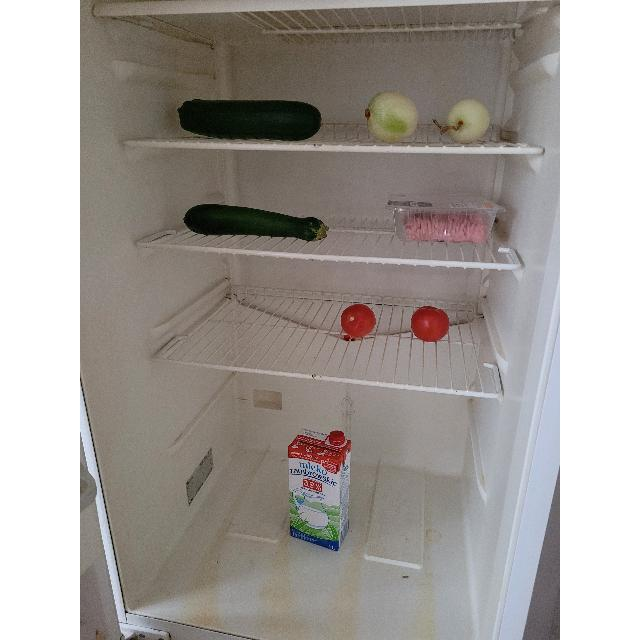meat: (402, 214, 488, 244)
milk: (288, 426, 350, 552)
onion: (365, 90, 419, 142), (443, 97, 491, 143)
tomato: (410, 305, 450, 343), (340, 302, 376, 340)
zucchini: (178, 100, 322, 140), (184, 203, 326, 240)
